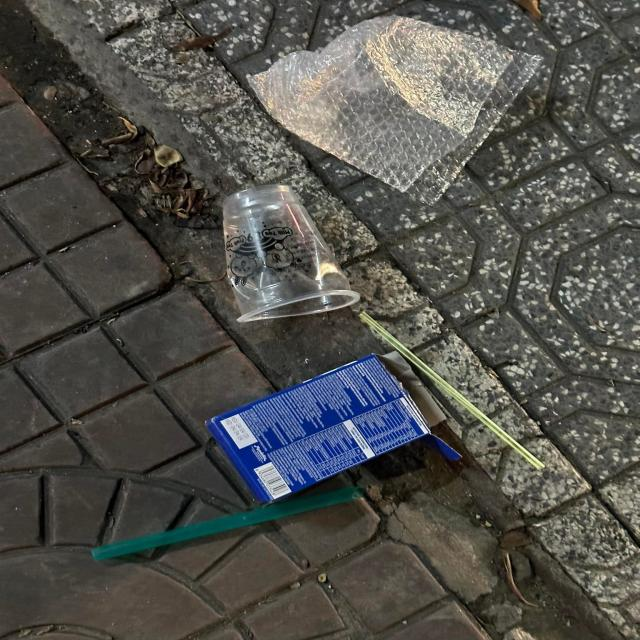bag: (246, 15, 545, 207)
cardboard box: (205, 350, 463, 504)
drinking straw: (358, 311, 546, 470), (90, 485, 364, 562)
plastic glass: (222, 184, 360, 323)
